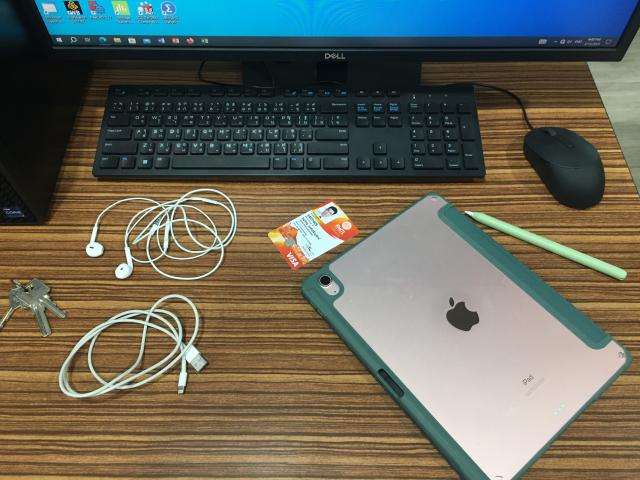Keys: (0, 278, 66, 335)
Mouse: (523, 127, 607, 211)
wire: (59, 296, 209, 400), (113, 191, 238, 282)
